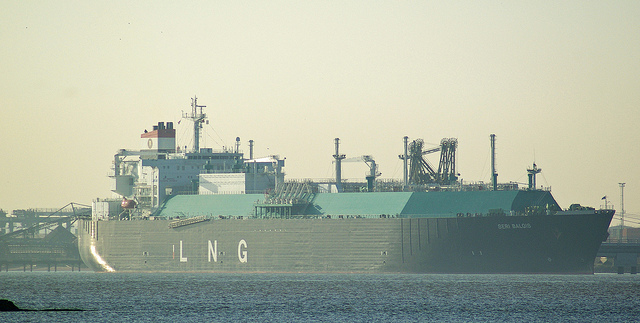LNG_ship: (76, 94, 620, 280)
